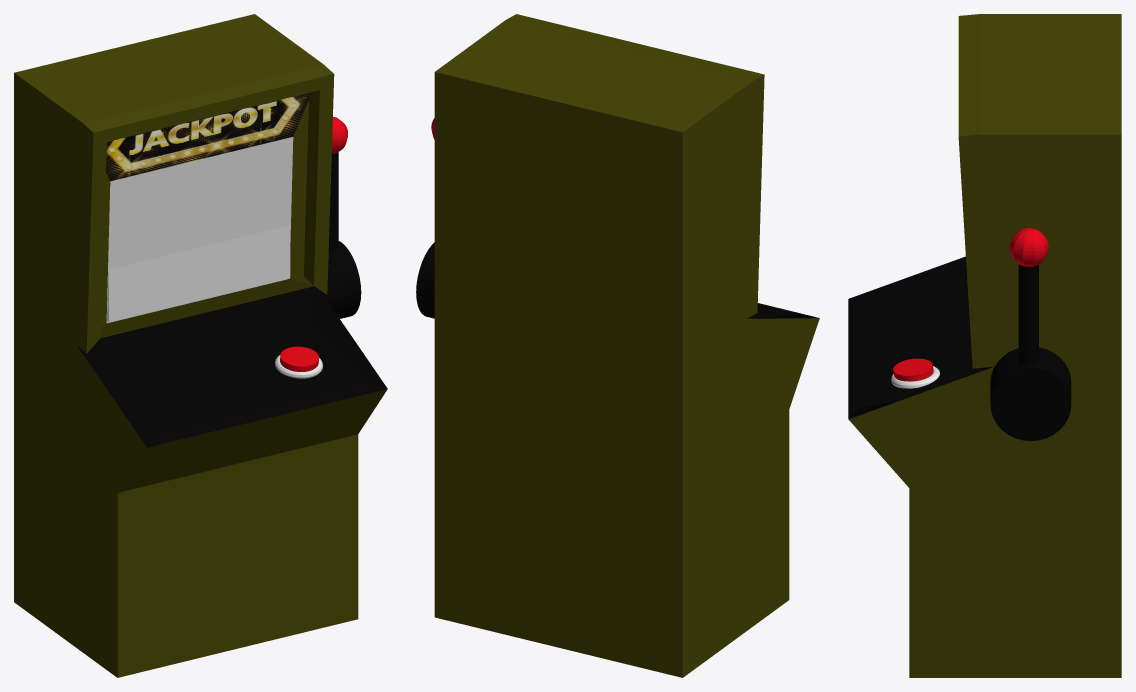
File: Tragaperrasamarilla.glb
The picture shows the model from 3 angles, left to right: view 1: azimuth 30°, elevation 25°; view 2: azimuth 150°, elevation 25°; view 3: azimuth 270°, elevation 25°; orthographic projection. The views are drawn at different scales.
Visible parts, largest first — view 1: perraAmarilla, pantallaAmarilla, manillaAmarilla, bolaPalancaAmarilla, botonAmarila; view 2: perraAmarilla, manillaAmarilla; view 3: perraAmarilla, manillaAmarilla, bolaPalancaAmarilla, botonAmarila, Toroide.003.
Boxes of the visible parts, x1=… form: perraAmarilla: x1=14, y1=14, x2=387, y2=677; pantallaAmarilla: x1=107, y1=225, x2=290, y2=321; manillaAmarilla: x1=320, y1=241, x2=361, y2=318; bolaPalancaAmarilla: x1=328, y1=117, x2=347, y2=252; botonAmarila: x1=280, y1=346, x2=318, y2=371; perraAmarilla: x1=434, y1=14, x2=819, y2=677; manillaAmarilla: x1=416, y1=242, x2=434, y2=318; perraAmarilla: x1=848, y1=14, x2=1121, y2=677; manillaAmarilla: x1=990, y1=347, x2=1071, y2=440; bolaPalancaAmarilla: x1=1009, y1=228, x2=1048, y2=365; botonAmarila: x1=893, y1=358, x2=933, y2=381; Toroide.003: x1=891, y1=366, x2=939, y2=388.
Bounding box in the file's own units: 22.07 × 39.03 × 17.77.
Materials: 7 (1 with a texture image).
